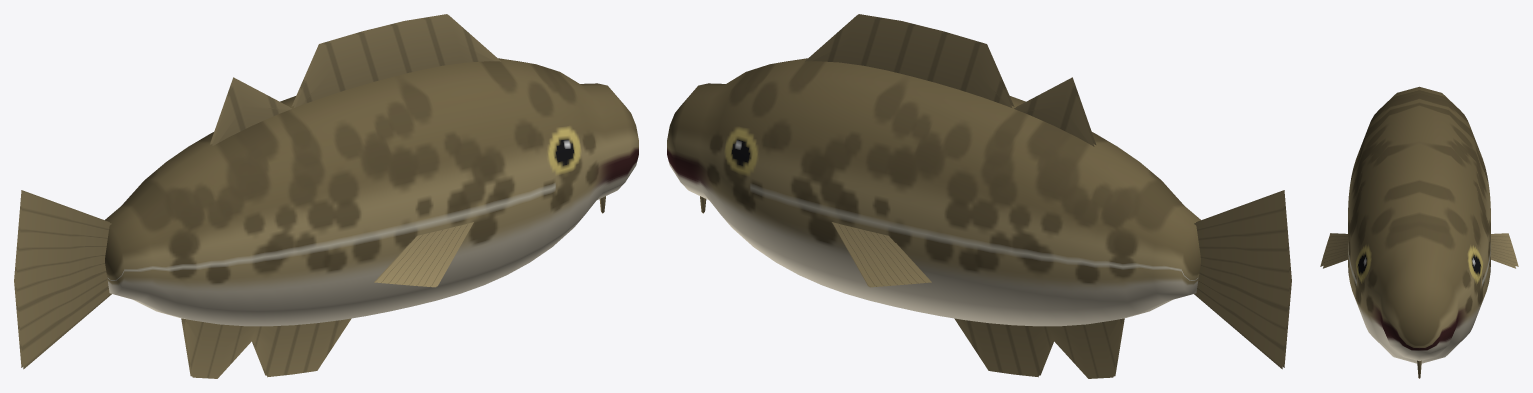
The model's file is Fish_03_Cod.fbx.
The picture shows the model from 3 angles, left to right: view 1: azimuth 30°, elevation 25°; view 2: azimuth 150°, elevation 25°; view 3: azimuth 270°, elevation 25°; orthographic projection. The views are drawn at different scales.
Parts seen in each view (by area): view 1: Fish_03_Cod; view 2: Fish_03_Cod; view 3: Fish_03_Cod.
Boxes of the visible parts, x1=… form: Fish_03_Cod: x1=14, y1=14, x2=638, y2=378; Fish_03_Cod: x1=667, y1=14, x2=1291, y2=378; Fish_03_Cod: x1=1320, y1=86, x2=1518, y2=378.
Bounding box in the file's own units: 1.25 × 0.6257 × 0.4228.
